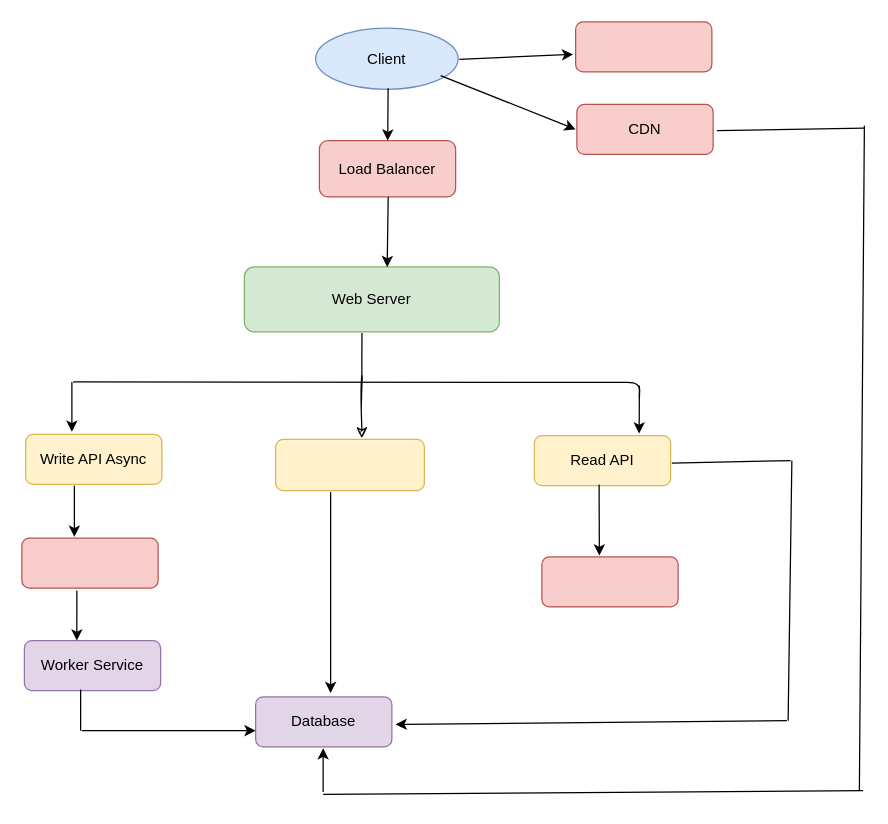
This 888x824 diagram has some shape labels left out. Each missing label, with the centre of its shape:
DNS: pixel 643 46
Memory Cache: pixel 609 581
Queue: pixel 89 562
Write API: pixel 349 464
